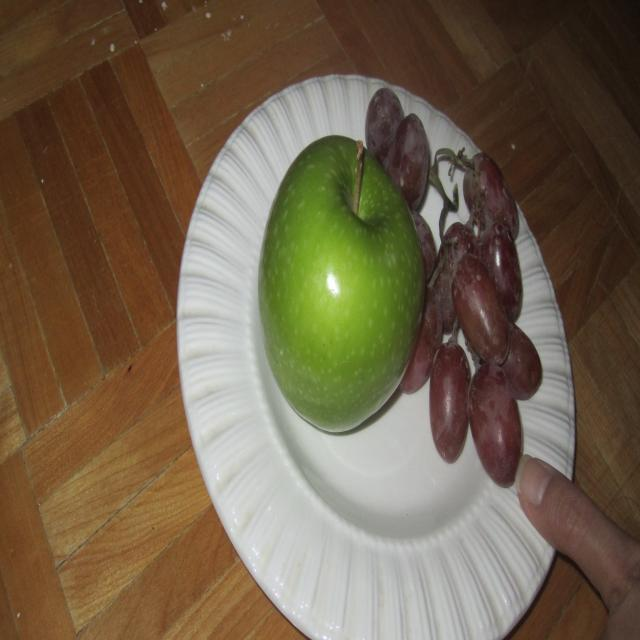Apple: (254, 135, 426, 438)
Finger: (516, 452, 612, 586)
Grapes: (421, 80, 558, 457)
